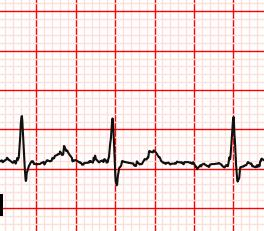ST Depression: (98, 151, 127, 191), (9, 155, 37, 188), (220, 159, 246, 189)
